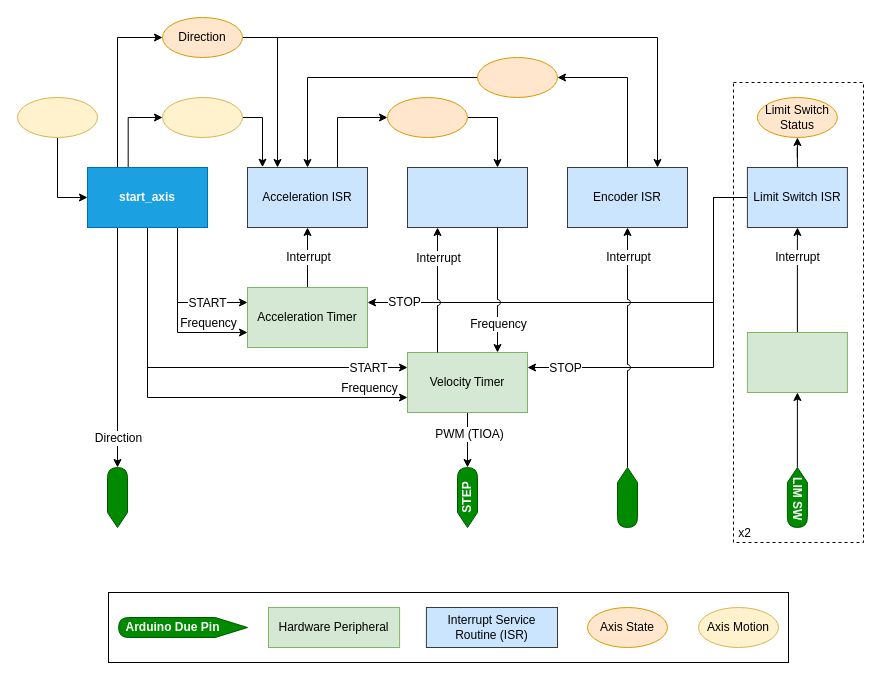
The diagram is 881 pixels wide and 680 high, and some of its shapes have lost their labels. Each missing label, with the centre of its shape:
"Debouncer" belongs at (796,362).
"DIR" belongs at (117,497).
"ENC" belongs at (627,497).
"Encoder Count" belongs at (517,77).
"Motion Spec" belongs at (57,117).
"Velocity" belongs at (427,117).
"Velocity ISR" belongs at (467,197).
"Velocity Profile" belongs at (202,117).
